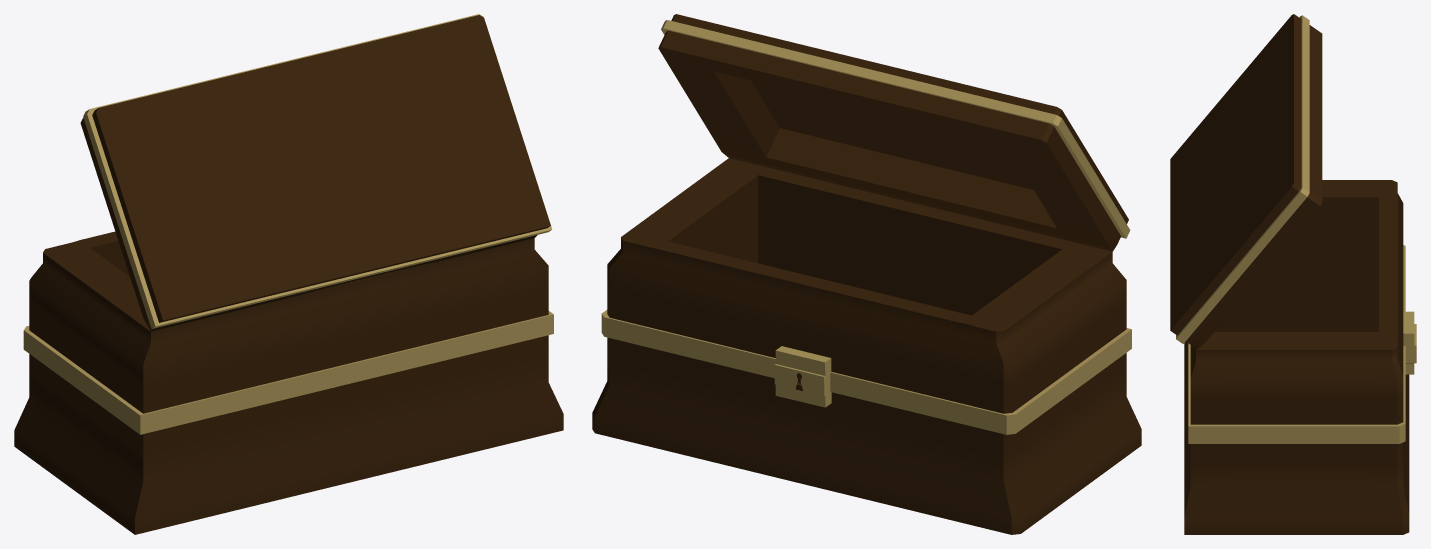
The model's file is chest_M.fbx.
3 views of the same model, side by side, from view 1: azimuth 30°, elevation 25°; view 2: azimuth 150°, elevation 25°; view 3: azimuth 270°, elevation 25° (orthographic). The views are drawn at different scales.
Visible parts, largest first — view 1: pCube3; view 2: pCube3; view 3: pCube3.
Part boxes in pixels (x1,y1,x2,y2): pCube3: [14, 14, 563, 534]; pCube3: [592, 14, 1141, 534]; pCube3: [1170, 14, 1416, 534].
Bounding box in the file's own units: 11.26 × 9.47 × 6.18.
